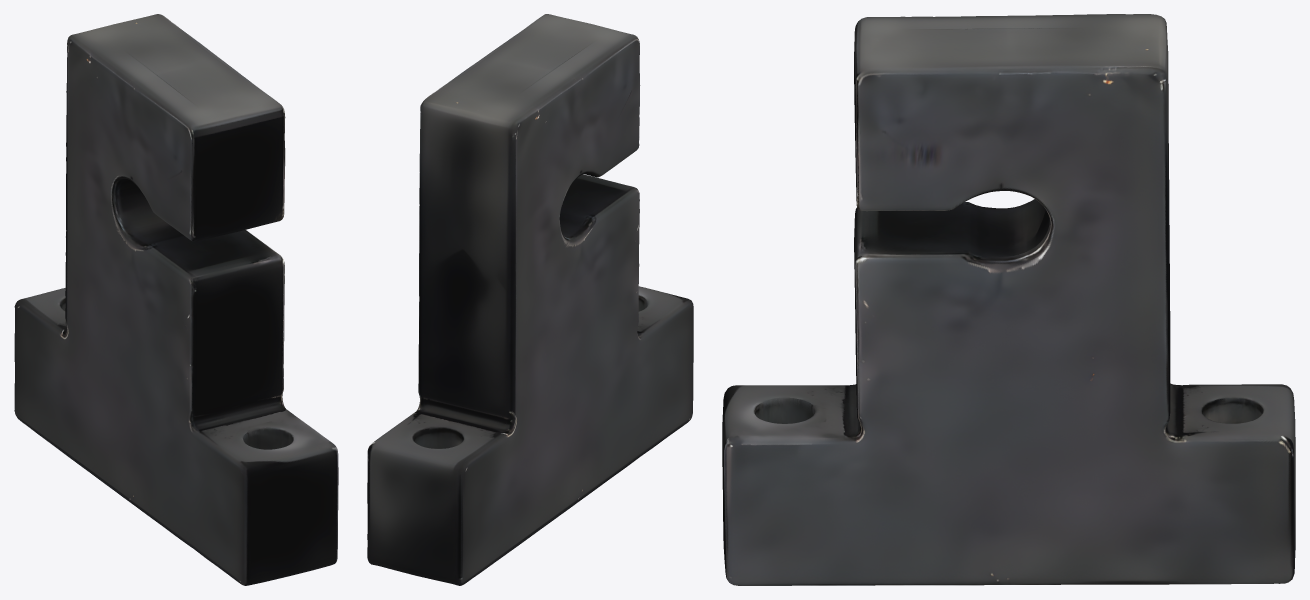
The model's file is Mesa.glb.
The picture shows the model from 3 angles, left to right: view 1: azimuth 30°, elevation 25°; view 2: azimuth 150°, elevation 25°; view 3: azimuth 270°, elevation 25°; orthographic projection. The views are drawn at different scales.
Visible parts, largest first — view 1: model; view 2: model; view 3: model.
Boxes of the visible parts, <box> form: model: <box>14,14,338,585</box>; model: <box>367,14,693,585</box>; model: <box>722,14,1295,585</box>.
Size of the model in its own units: 0.4129 by 1.77 by 1.76.
1 material, 1 textured.
